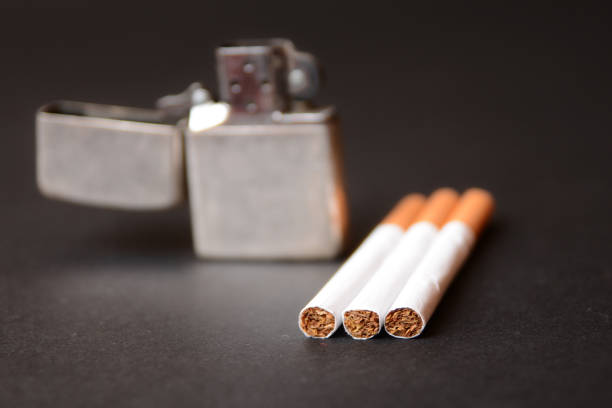cigarette: (297, 193, 429, 339), (341, 187, 461, 341), (382, 187, 495, 341)
